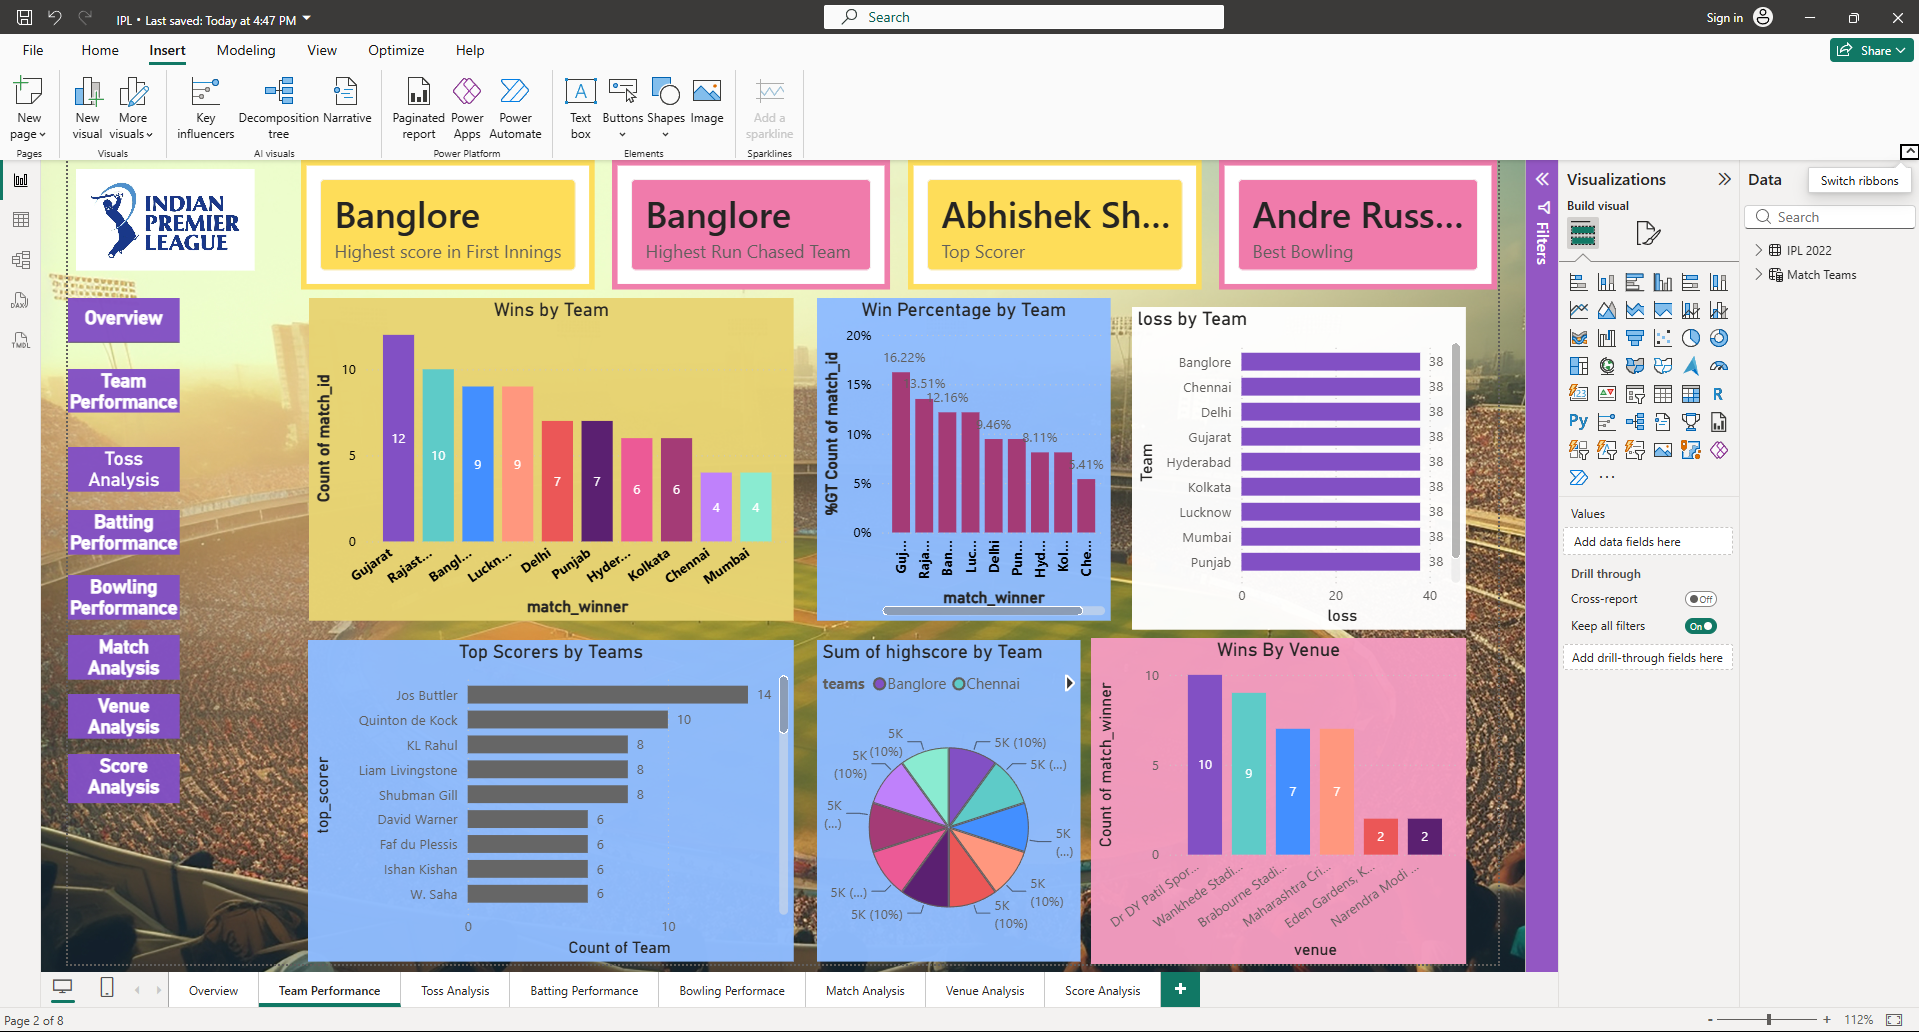

This screenshot's page, from the dashboard's own definition file:
{"tool":"powerbi","page":{"name":"Team Performance","canvas":[1280,720],"ordinal":1},"visuals":[{"type":"columnChart","title":"Wins by Team","fields":{"Category":["IPL 2022.match_winner"],"Y":["CountNonNull(IPL 2022.match_id)"],"Series":["IPL 2022.match_winner"]},"box":[224.7,103.1,434.8,288.9],"z":0},{"type":"barChart","title":"Top Scorers by Teams","fields":{"Y":["Sum(IPL 2022.highscore)"],"Category":["Teams.team"]},"box":[415.3,404.6,434.8,288.9],"z":1000},{"type":"barChart","title":"Win Percentage by Team","fields":{"Category":["IPL 2022.match_winner"],"Y":["CountNonNull(IPL 2022.match_id)"],"Series":["IPL 2022.match_winner"]},"box":[673.1,103.1,253.9,288.9],"z":2000},{"type":"columnChart","title":"Wins By Venue","fields":{"Category":["IPL 2022.venue"],"Y":["Count(IPL 2022.match_winner)"],"Series":["IPL 2022.venue"]},"box":[860.8,404.6,384.2,292.8],"z":3000},{"type":"columnChart","fields":{"Category":["Teams.team"],"Y":["IPL 2022.loss"]},"box":[959,103.1,298.6,288.9],"z":4000},{"type":"actionButton","title":"OERVIEW","box":[1039.8,25.9,137.6,35],"z":5000},{"type":"actionButton","title":"Overview","box":[13.5,82.3,100.4,39.5],"z":6000},{"type":"actionButton","title":"Team Performance","box":[13.5,131.9,100.4,39.5],"z":7000}]}

Visuals, with their boxes on the page's 1280x720 design canvas (x1, y1, x2, y2). These are canvas units, not pixel positions in the 1919x1032 screenshot, which may show the page scaled, cropped or inside an application window:
"Wins by Team" columnChart: (left=225, top=103, right=660, bottom=392)
"Top Scorers by Teams" barChart: (left=415, top=405, right=850, bottom=694)
"Win Percentage by Team" barChart: (left=673, top=103, right=927, bottom=392)
"Wins By Venue" columnChart: (left=861, top=405, right=1245, bottom=697)
columnChart - Teams.team x IPL 2022.loss: (left=959, top=103, right=1258, bottom=392)
"OERVIEW" actionButton: (left=1040, top=26, right=1177, bottom=61)
"Overview" actionButton: (left=14, top=82, right=114, bottom=122)
"Team Performance" actionButton: (left=14, top=132, right=114, bottom=171)
